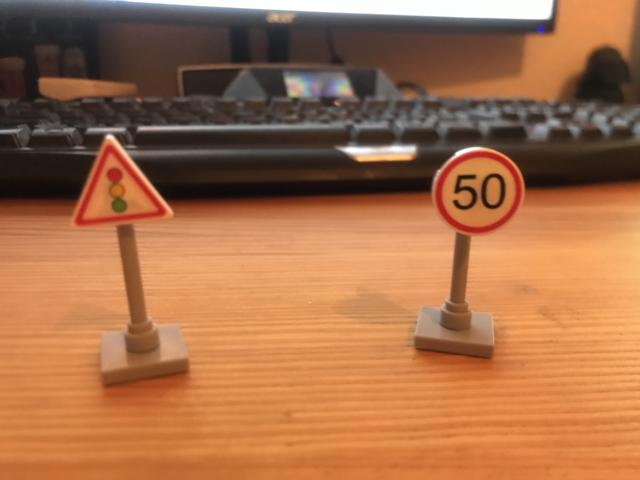lichtzeichenanlage: (74, 136, 176, 230)
tempolimit 50: (434, 145, 525, 236)
